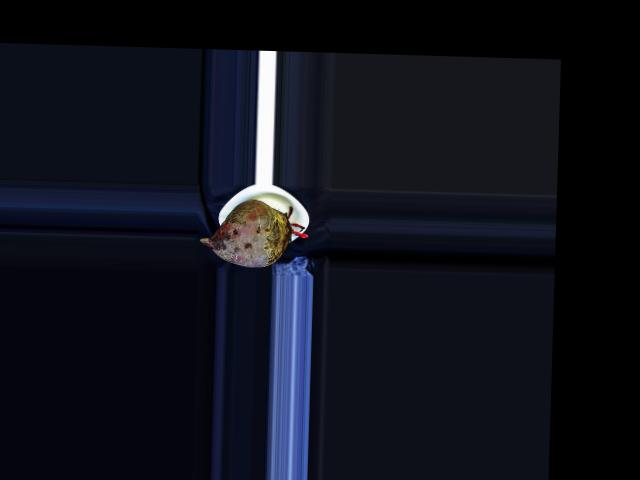beet: (200, 198, 309, 267)
